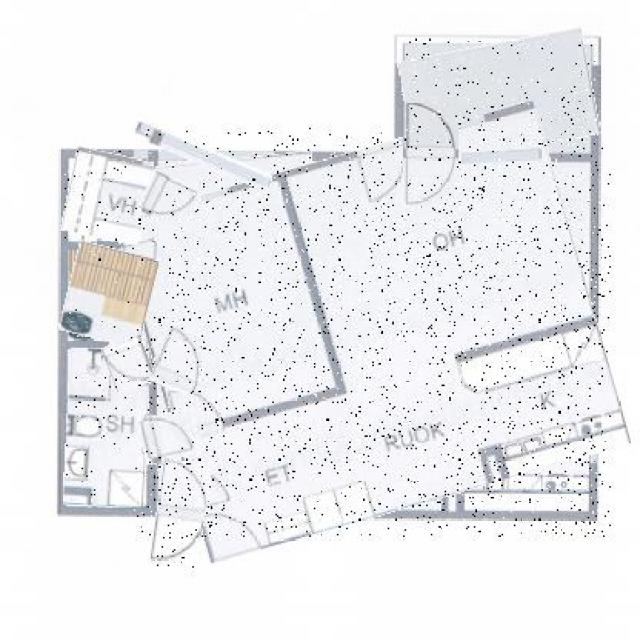door: (154, 460, 208, 568), (403, 105, 459, 209), (154, 329, 209, 394), (140, 175, 197, 228), (140, 411, 198, 463), (105, 337, 152, 391)
window: (132, 134, 274, 178), (462, 149, 542, 165)
zone: (134, 128, 611, 537), (153, 156, 330, 378), (401, 35, 597, 160), (66, 349, 149, 508), (63, 244, 154, 344), (65, 150, 149, 242)
